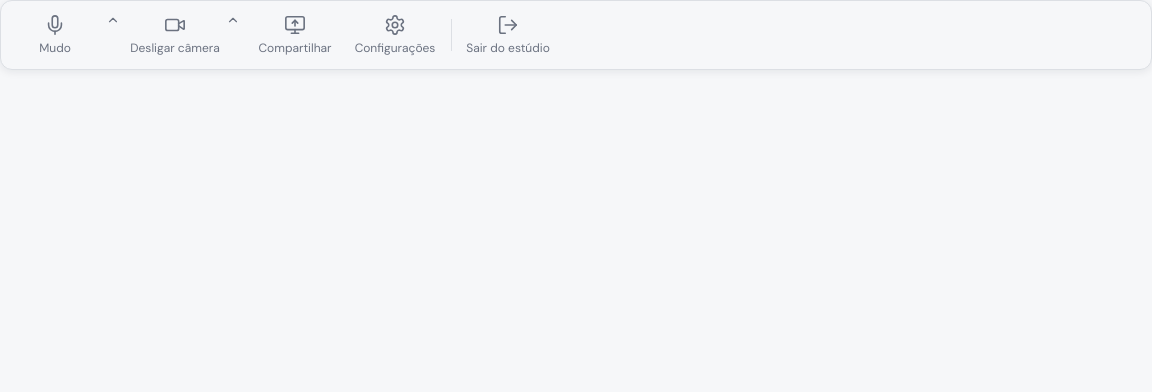
Test: setinha da câmera › lista as câmeras do Mac (FaceTime, iPhone, Visualização da Mesa) com check, desfoque, Configurações de vídeo e ajuda
This screenshot has width=1152, height=392.
Later steps or results of the test are not shown.
Press the mouse on the button named "Opções de vídeo": (233, 35) [223,5,243,65]
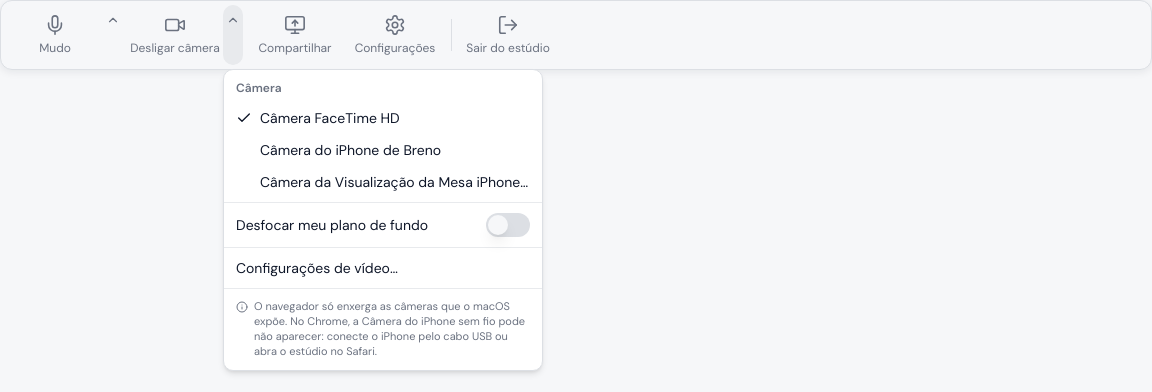
Expected: the menu shows "Câmera do iPhone de Breno", [260,141,441,159]
Expected: the menu shows "Câmera da Visualização da Mesa iPhone de Breno", [260,173,582,191]
Expected: the element with test id "ajuda-aparelhos" shows "O navegador só enxerga as câmeras que o macOS expõe. No Chrome, a Câmera do iPhone sem fio pode não aparecer: conecte o iPhone pelo cabo USB ou abra o estúdio n", [254,299,525,358]
Click the menu item "Desfocar meu plano de fundo": (383, 225) [228,207,538,243]
Expected: the menu is shown, [223,69,543,370]
